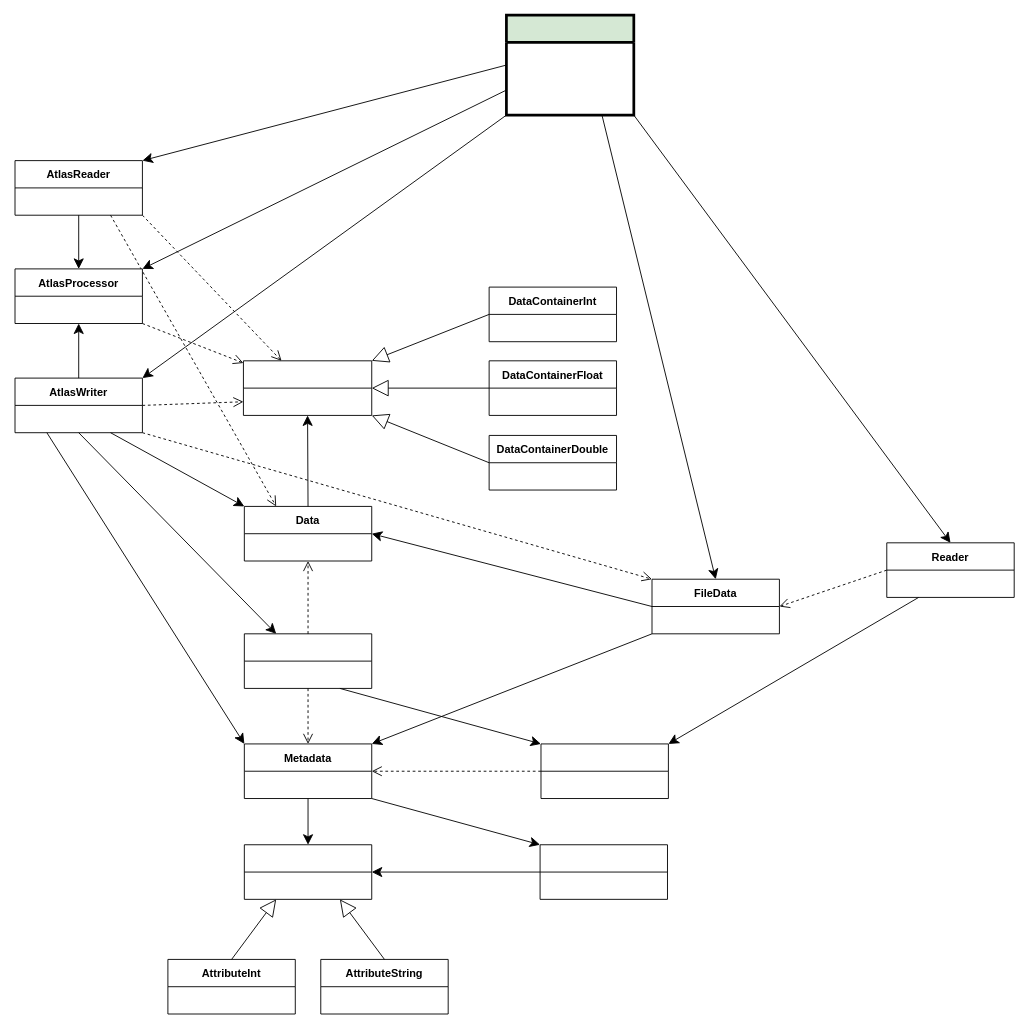
Image size: 1029x1029. Some labels were removed from this diagram. The centre of each missing label's shape, as x and y in pixels:
"AttributeBase" goes at (307,871).
"DataContainerBase" goes at (307,387).
"File" goes at (604,771).
"MONIO" goes at (570,64).
"Variable" goes at (603,871).
"Writer" goes at (307,660).
